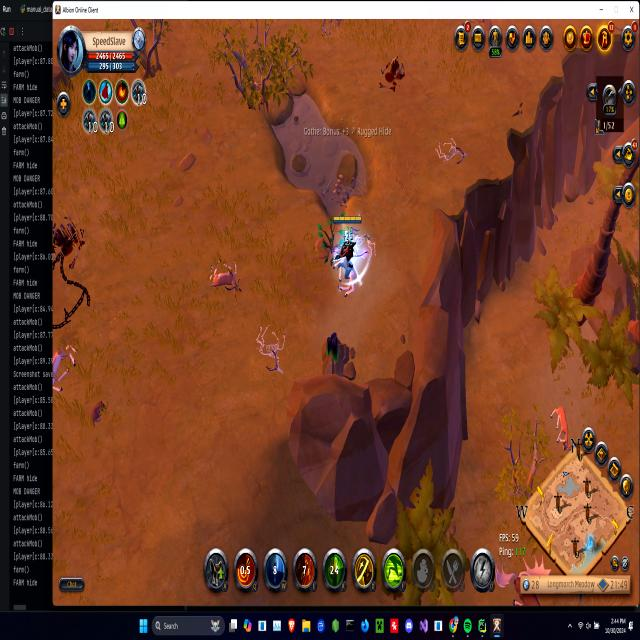mob: (206, 250, 244, 298), (52, 337, 78, 400)
ore: (552, 398, 571, 455)
player: (320, 329, 350, 384)
red: (331, 213, 363, 292)
